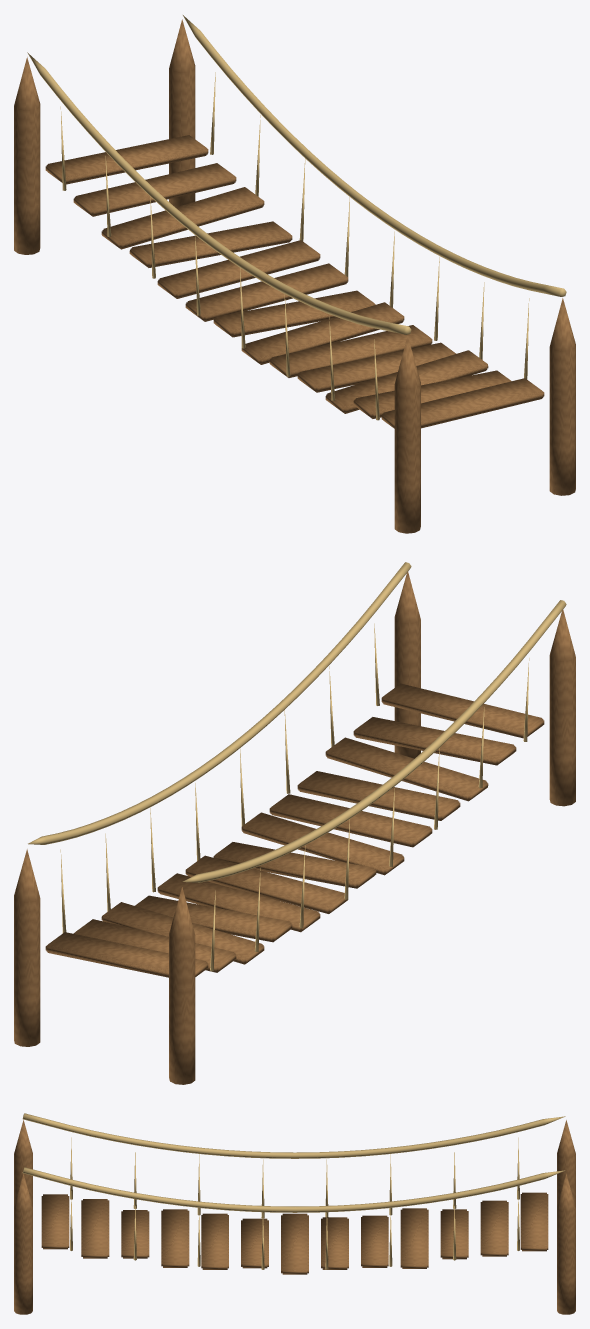
The model's file is RopeBridge.fbx.
3 renders of one model, top to bottom at view 1: azimuth 30°, elevation 25°; view 2: azimuth 150°, elevation 25°; view 3: azimuth 270°, elevation 25°, orthographic. The views are drawn at different scales.
Visible parts, largest first — view 1: RopeBridge; view 2: RopeBridge; view 3: RopeBridge.
Boxes of the visible parts, left/top/right/bottom form: RopeBridge: left=14, top=15, right=575, bottom=533; RopeBridge: left=14, top=562, right=575, bottom=1084; RopeBridge: left=14, top=1113, right=575, bottom=1314.
Size of the model in its own units: 183 by 198 by 704.
1 material, 1 textured.
